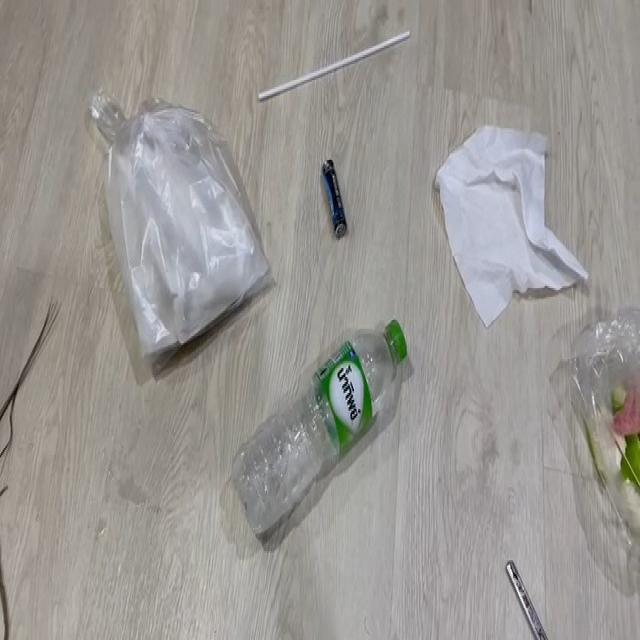Anorganik: (86, 96, 255, 353), (228, 326, 426, 526), (436, 98, 574, 322), (260, 30, 421, 94), (496, 535, 560, 640)
B3: (0, 285, 67, 639), (576, 319, 640, 516), (320, 145, 354, 250)
